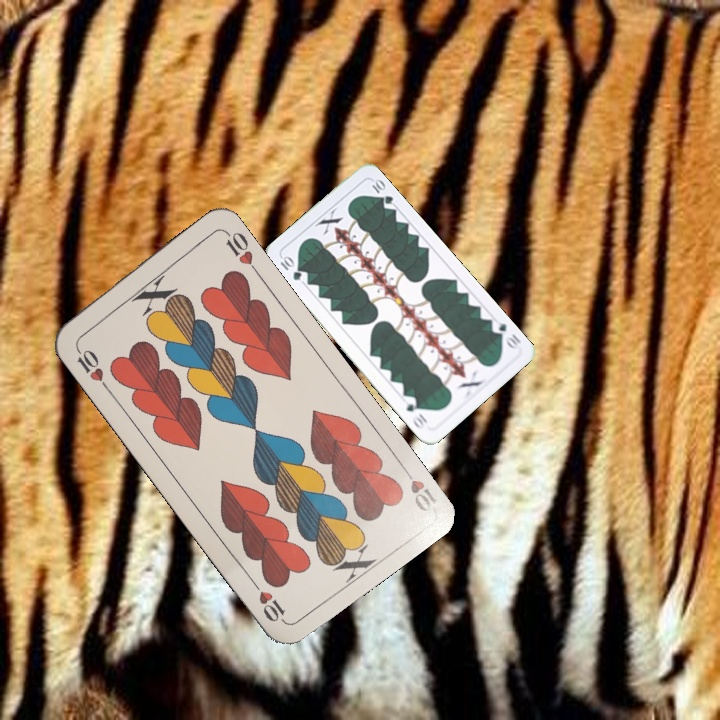G10: (487, 316, 524, 352), (276, 252, 304, 283)
H10: (397, 460, 440, 514), (71, 341, 111, 393)
